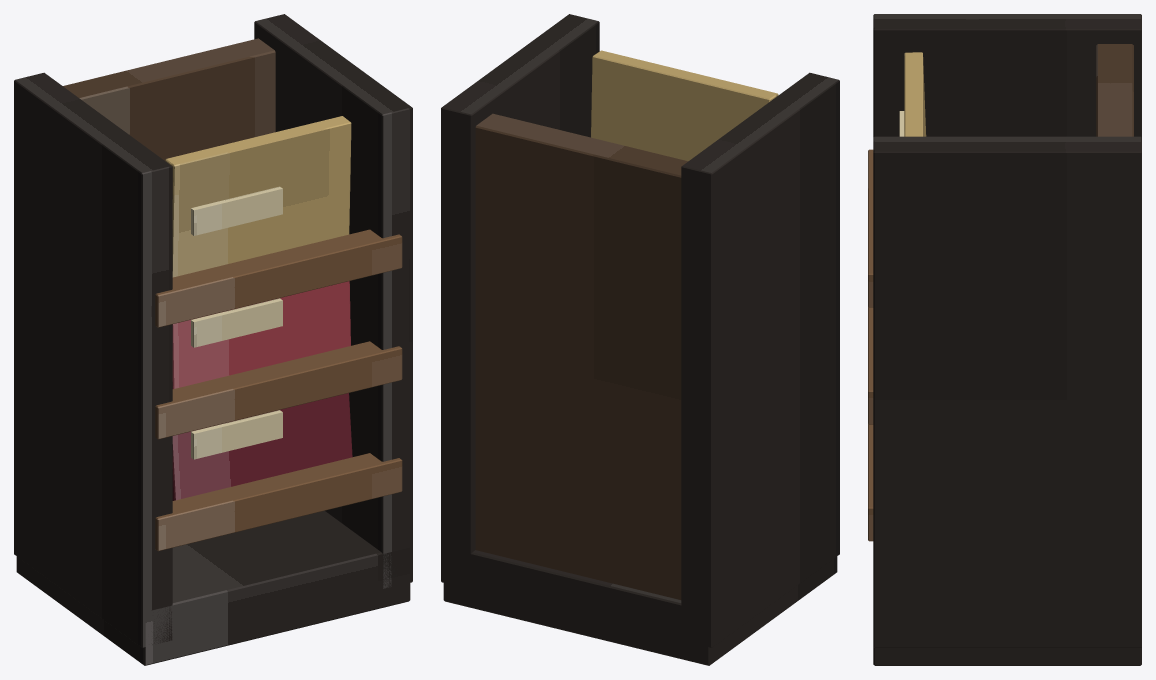
File: magazine_rack.glb
The picture shows the model from 3 angles, left to right: view 1: azimuth 30°, elevation 25°; view 2: azimuth 150°, elevation 25°; view 3: azimuth 270°, elevation 25°; orthographic projection. The views are drawn at different scales.
Visible parts, largest first — view 1: RackPost_L, RackPost_R, RackBase, Magazine_3, RackBack, RackRail_1, RackRail_2, RackRail_3, Magazine_1, Magazine_2, MagazineLabel_1, MagazineLabel_2 (+1 smaller); view 2: RackBack, RackPost_L, RackPost_R, RackBase, Magazine_3; view 3: RackPost_R, RackPost_L, RackBase, RackBack, Magazine_3, RackRail_3, RackRail_2, RackRail_1.
Boxes of the visible parts, left/top/right/bottom form: RackPost_L: left=14, top=72, right=172, bottom=647; RackPost_R: left=254, top=14, right=412, bottom=588; RackBase: left=16, top=510, right=410, bottom=665; Magazine_3: left=165, top=116, right=351, bottom=277; RackBack: left=63, top=38, right=275, bottom=160; RackRail_1: left=155, top=453, right=402, bottom=551; RackRail_2: left=155, top=341, right=402, bottom=439; RackRail_3: left=155, top=229, right=402, bottom=327; Magazine_1: left=172, top=393, right=352, bottom=500; Magazine_2: left=172, top=281, right=350, bottom=389; MagazineLabel_1: left=191, top=410, right=282, bottom=459; MagazineLabel_2: left=191, top=298, right=282, bottom=347; RackBack: left=475, top=113, right=687, bottom=599; RackPost_L: left=681, top=72, right=839, bottom=647; RackPost_R: left=441, top=14, right=599, bottom=588; RackBase: left=443, top=547, right=837, bottom=665; Magazine_3: left=591, top=50, right=778, bottom=161; RackPost_R: left=873, top=136, right=1141, bottom=647; RackPost_L: left=873, top=14, right=1141, bottom=136; RackBase: left=873, top=647, right=1141, bottom=665; RackBack: left=1096, top=44, right=1133, bottom=136; Magazine_3: left=904, top=52, right=926, bottom=136; RackRail_3: left=868, top=149, right=873, bottom=307; RackRail_2: left=868, top=307, right=873, bottom=424; RackRail_1: left=868, top=424, right=873, bottom=541.
Size of the model in its own units: 0.61 by 1.06 by 0.51.
1 material, 1 textured.
